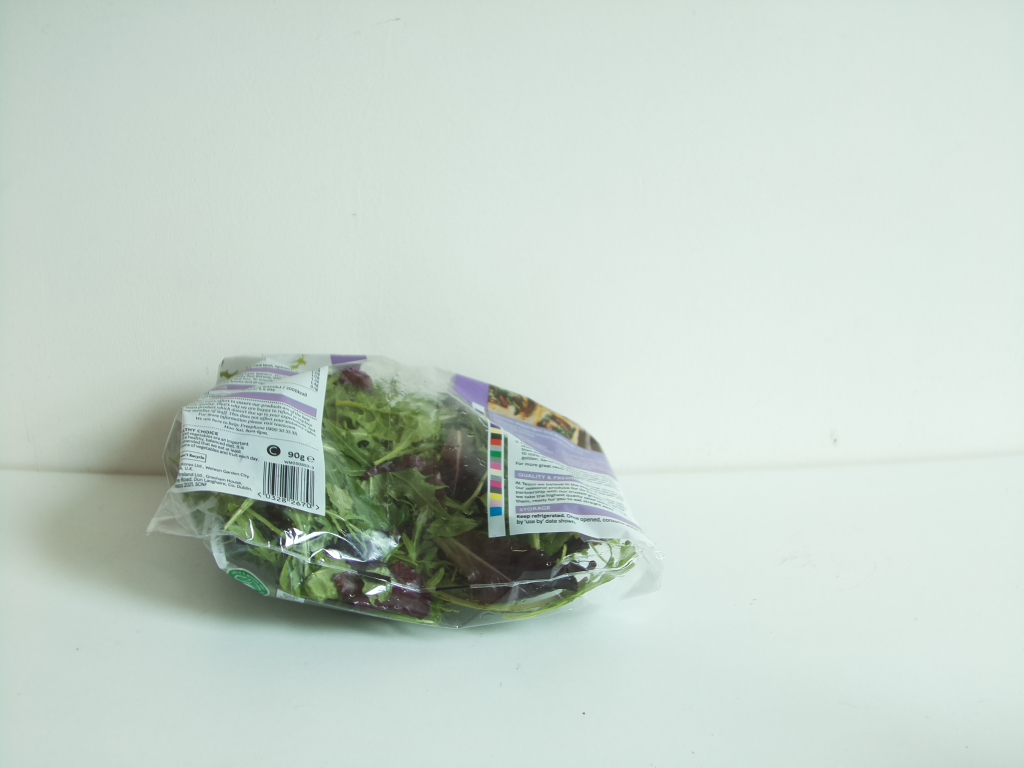salad: (154, 352, 656, 631)
